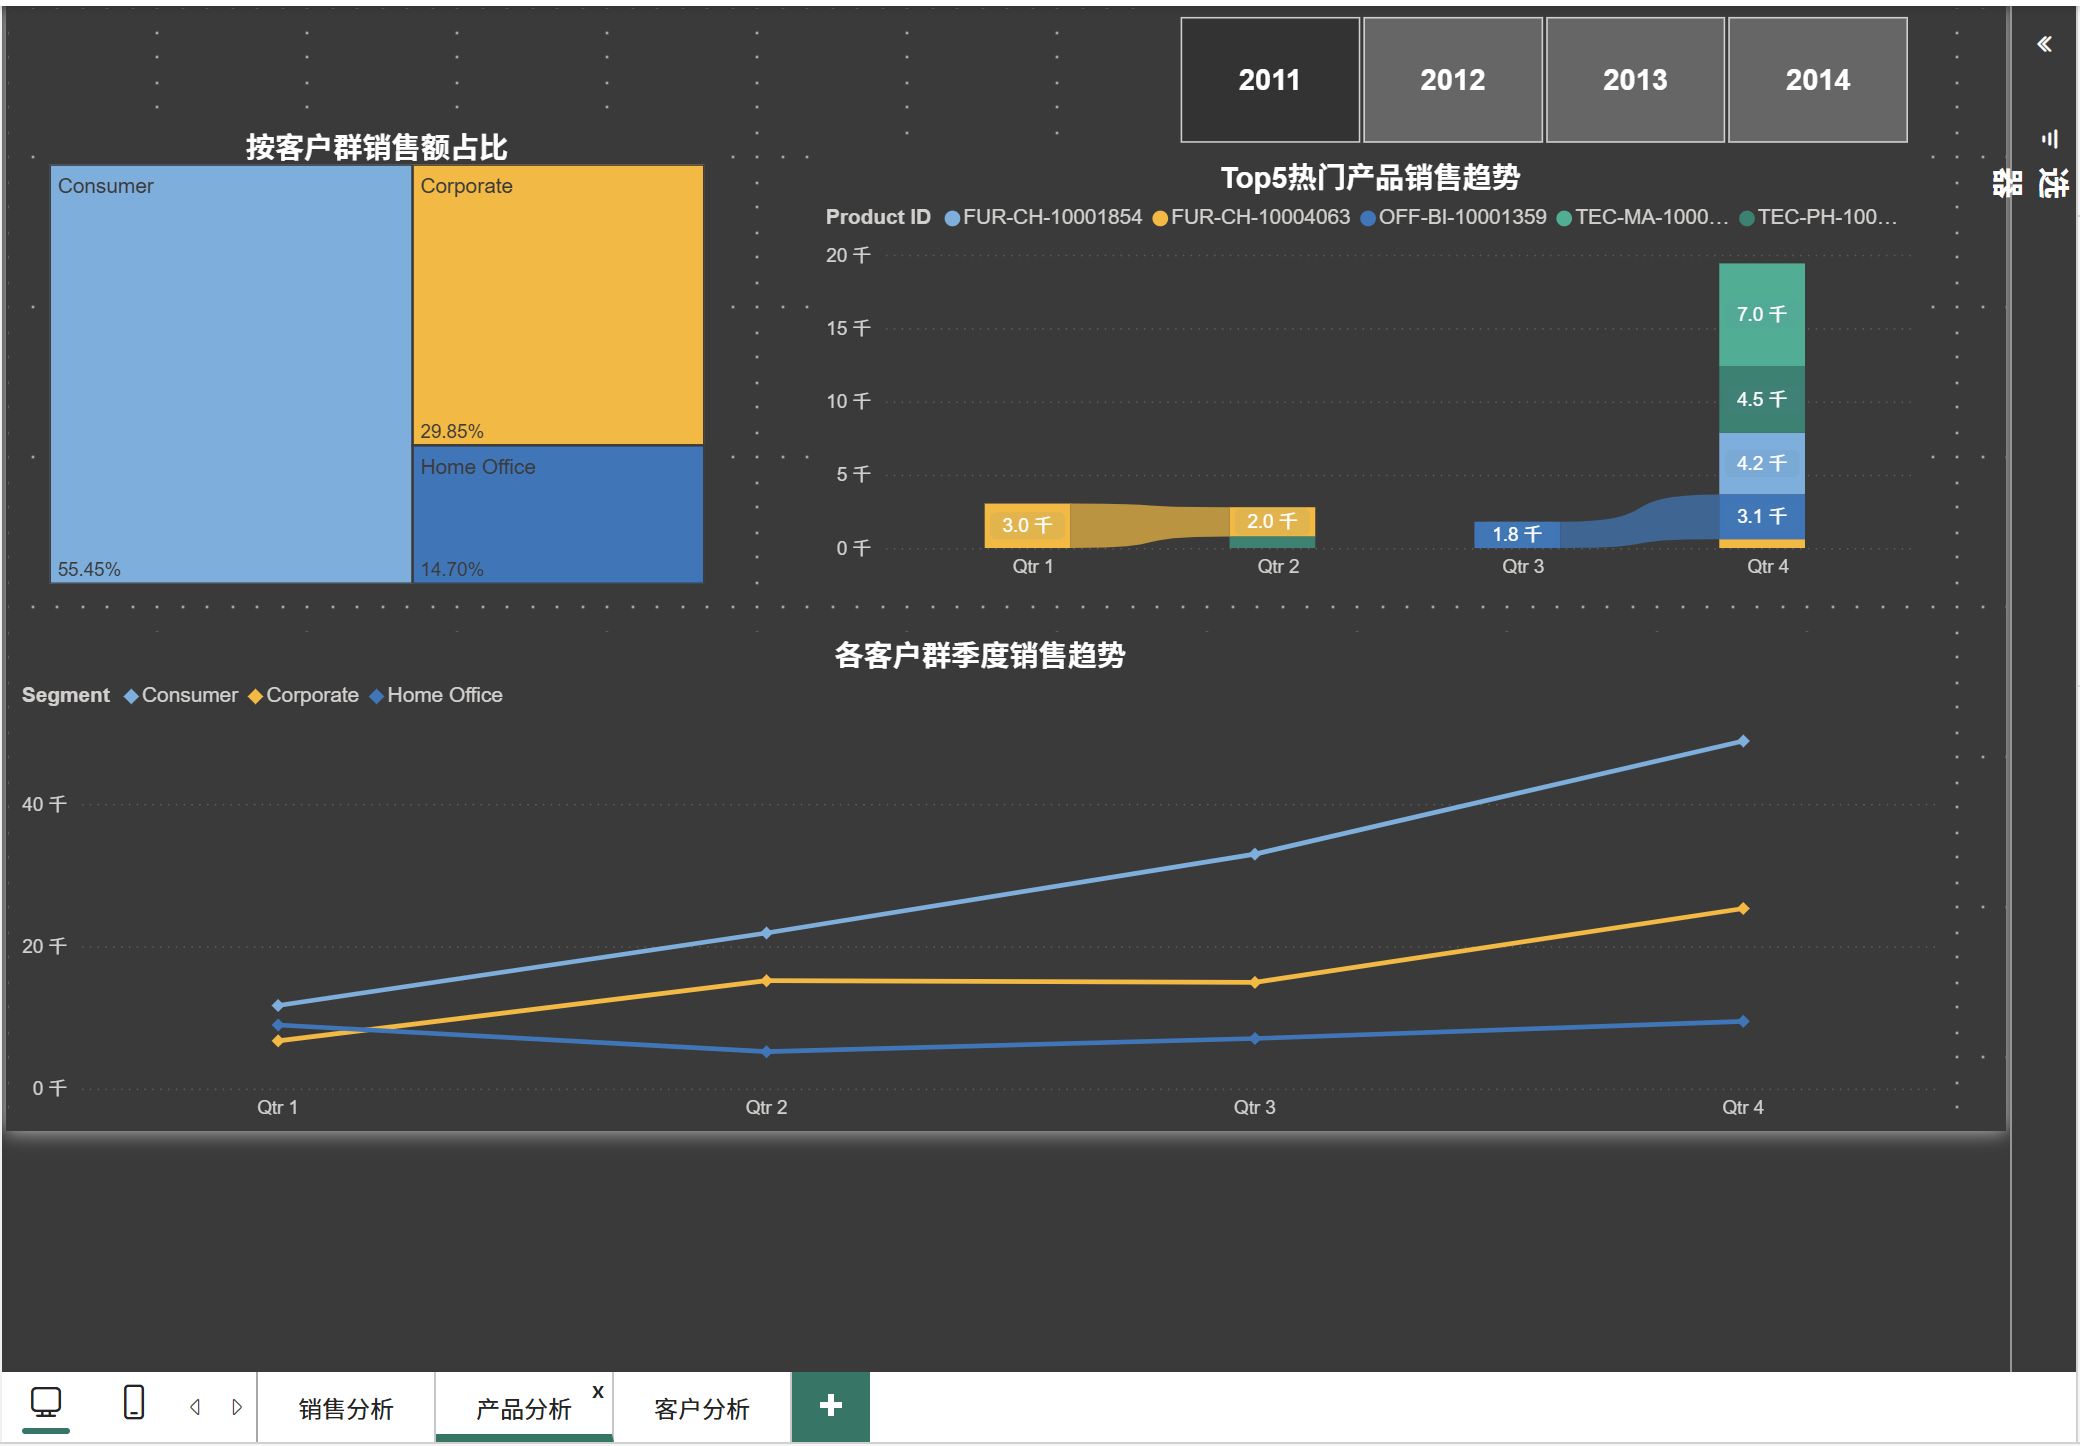

What the dashboard file says about the page in this screenshot:
{"tool":"powerbi","page":{"name":"产品分析","canvas":[1280,720],"ordinal":1},"visuals":[{"type":"treemap","title":"按客户群销售额占比","fields":{"Group":["Superstore.Segment"],"Values":["Sum(Superstore.Sales)"]},"box":[22.4,75.2,428.8,299.2],"z":0},{"type":"slicer","fields":{"Values":["Superstore.Order Date.Variation.Date Hierarchy.Year"]},"box":[726.2,0,515.6,94.5],"z":1000},{"type":"lineChart","title":"各客户群季度销售趋势","fields":{"Category":["Superstore.Order Date.Variation.Date Hierarchy.Year","Superstore.Order Date.Variation.Date Hierarchy.Quarter","Superstore.Order Date.Variation.Date Hierarchy.Month","Superstore.Order Date.Variation.Date Hierarchy.Day"],"Y":["Sum(Superstore.Sales)"],"Series":["Superstore.Segment"]},"box":[4.8,400,1236.8,320],"z":2000},{"type":"ribbonChart","title":"Top5热门产品销售趋势","fields":{"Series":["Superstore.Product ID"],"Category":["Superstore.Order Date.Variation.Date Hierarchy.Quarter"],"Y":["Sum(Superstore.Sales)"]},"box":[520,94.4,707.2,280],"z":3000}]}

Visuals, with their boxes on the page's 1280x720 design canvas (x1, y1, x2, y2). These are canvas units, not pixel positions in the 2080x1446 screenshot, which may show the page scaled, cropped or inside an application window:
"按客户群销售额占比" treemap: x1=22, y1=75, x2=451, y2=374
slicer - Superstore.Order Date.Variation.Date Hierarchy.Year: x1=726, y1=0, x2=1242, y2=94
"各客户群季度销售趋势" lineChart: x1=5, y1=400, x2=1242, y2=720
"Top5热门产品销售趋势" ribbonChart: x1=520, y1=94, x2=1227, y2=374
